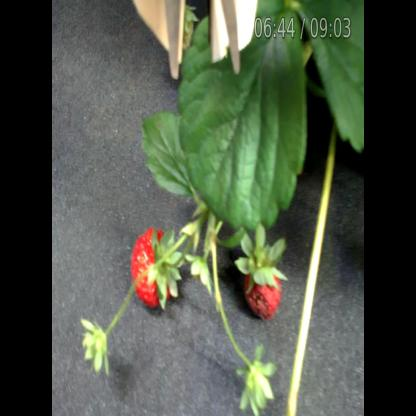ripe: (133, 217, 177, 318), (245, 260, 291, 320)
